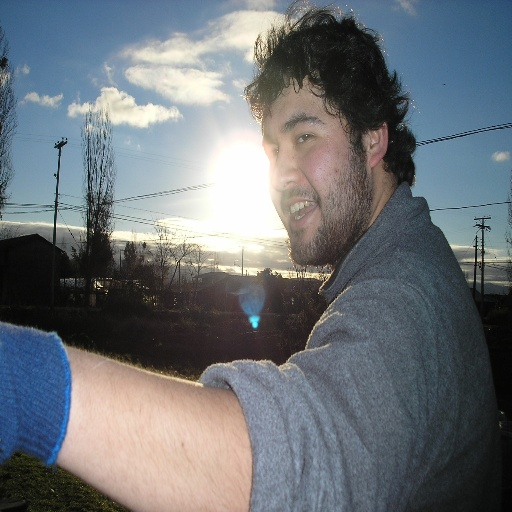hand: (3, 331, 273, 504)
